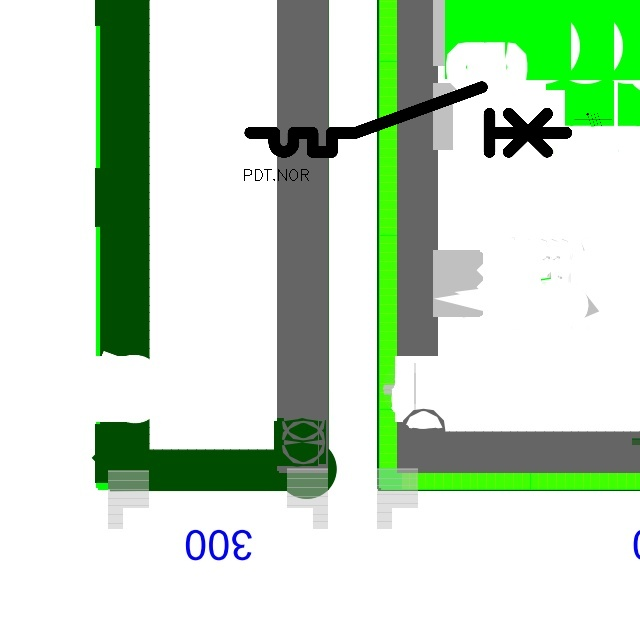interruptor_termomagnetico: (242, 79, 575, 160)
